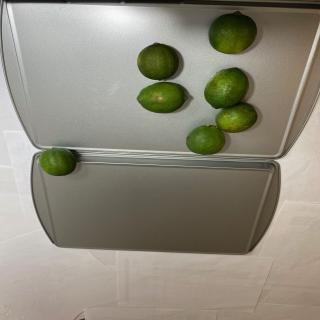Lemon: (208, 10, 257, 54), (204, 67, 249, 109), (136, 82, 188, 114), (137, 42, 179, 81), (215, 102, 258, 133), (186, 125, 226, 155), (38, 147, 76, 176)
